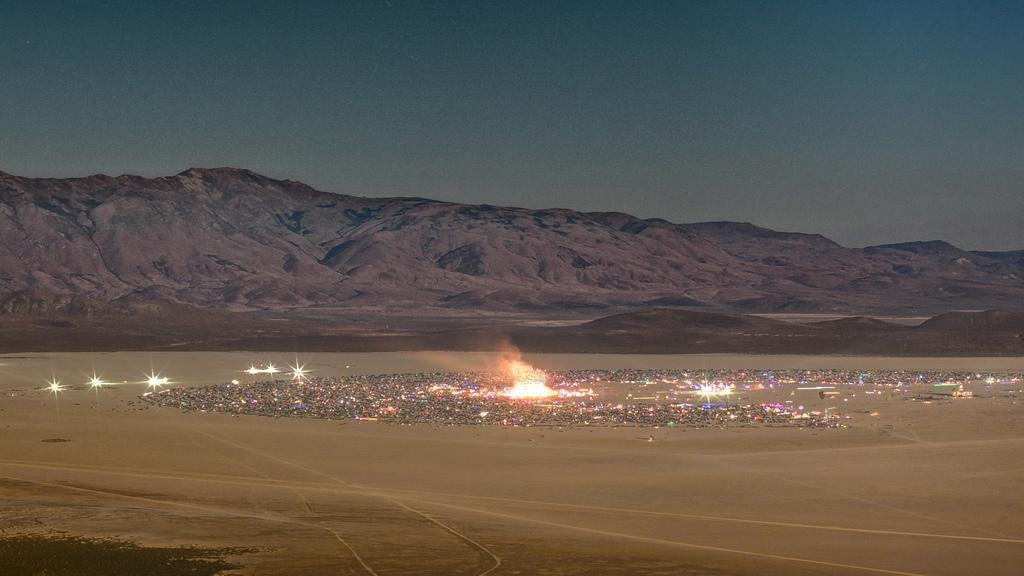fire: (507, 374, 546, 397)
